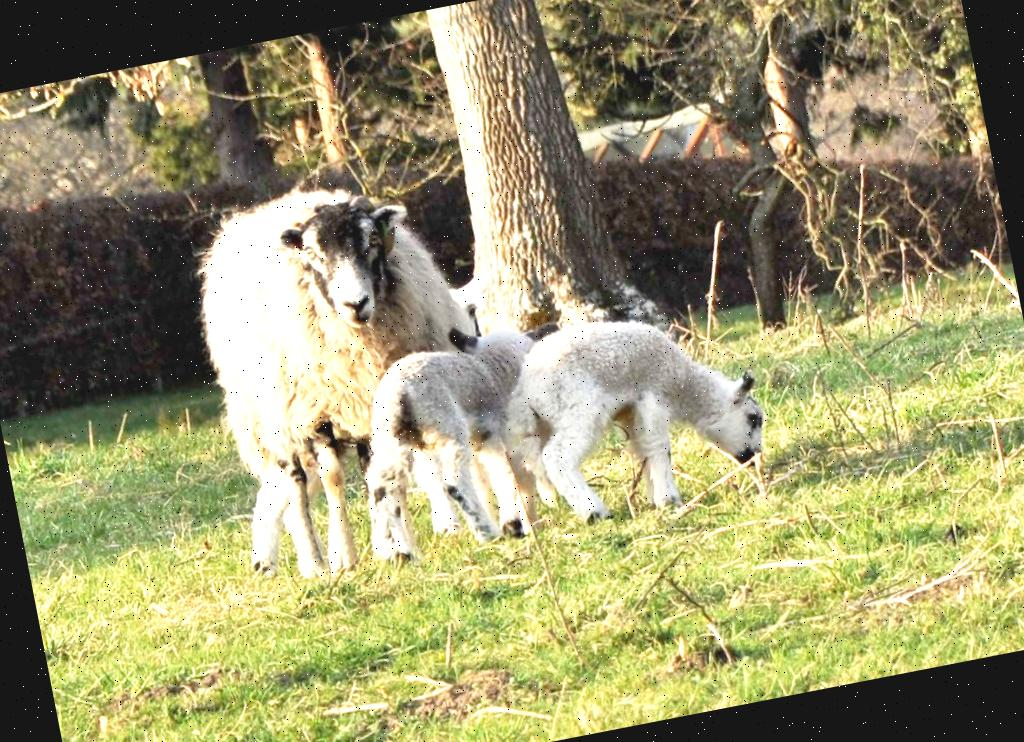Sheep: (185, 159, 522, 586), (478, 284, 788, 544), (335, 320, 593, 576)
